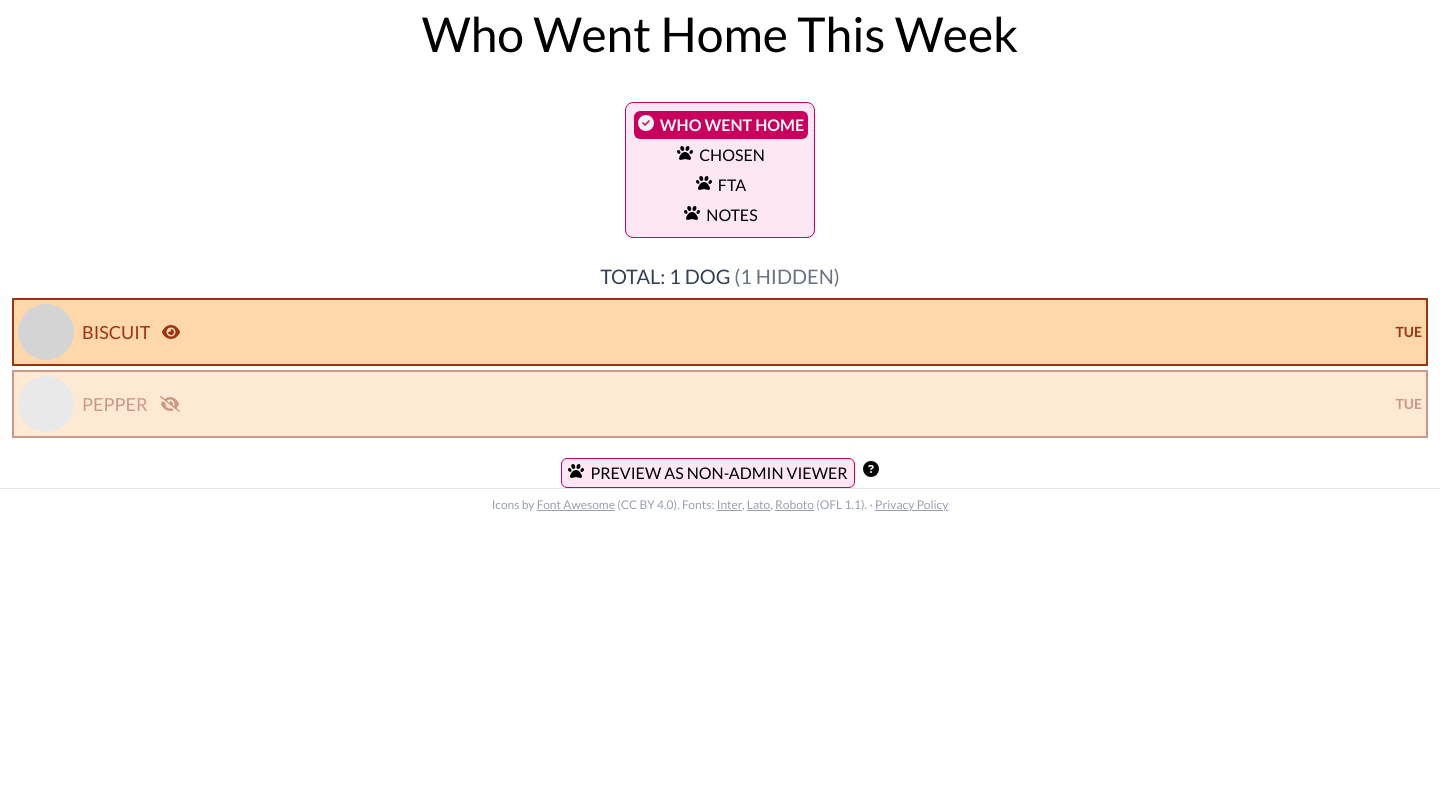
DashboardsApp hiding › renders the confirmation outside the faded hidden-dog card
What coordinates should you click on to do the following:
click the button without text next to "Pepper"
I would click on:
 (170, 404)
Its box is [160,392,180,416].
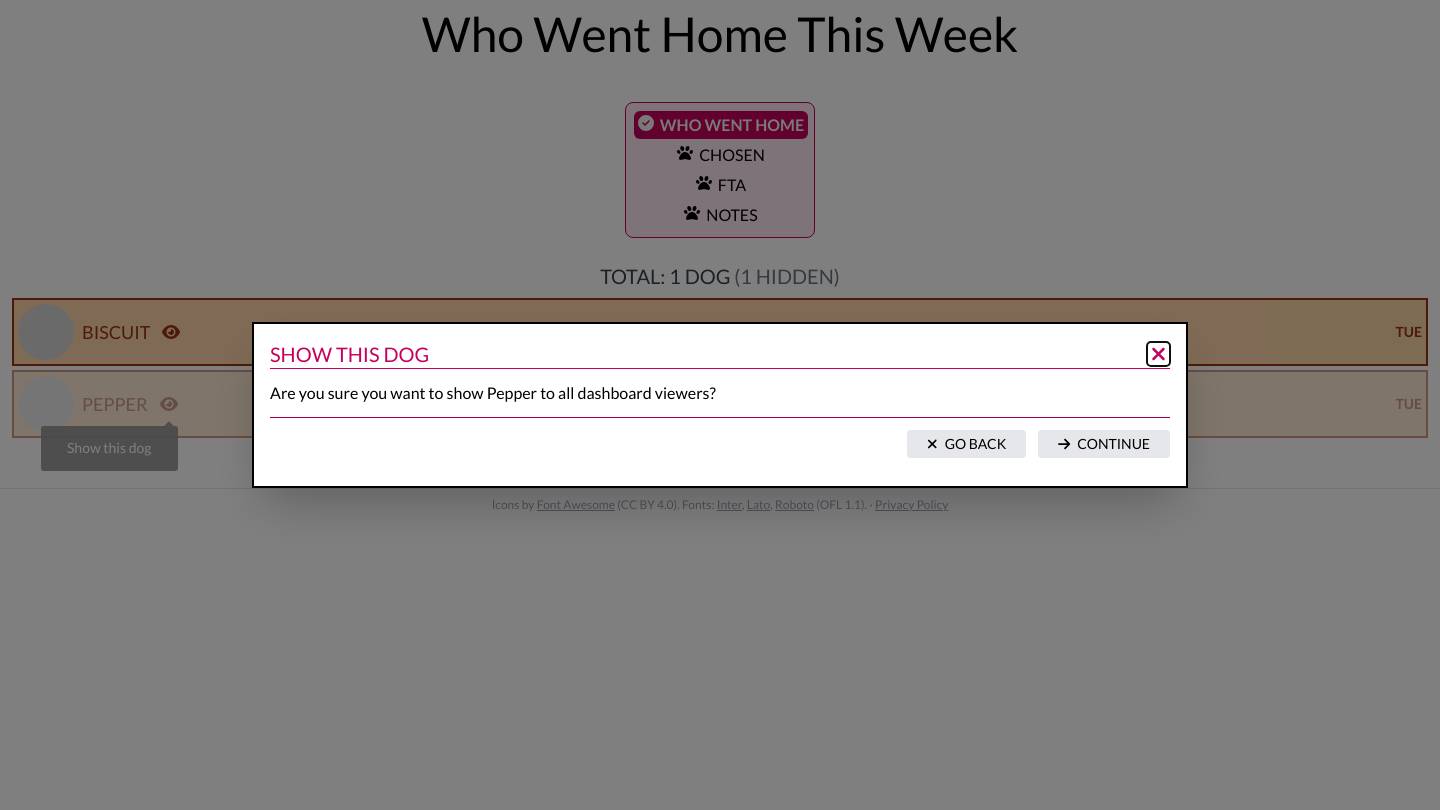
Check: the heading "Show this dog" is shown, box [270,340,429,368]
